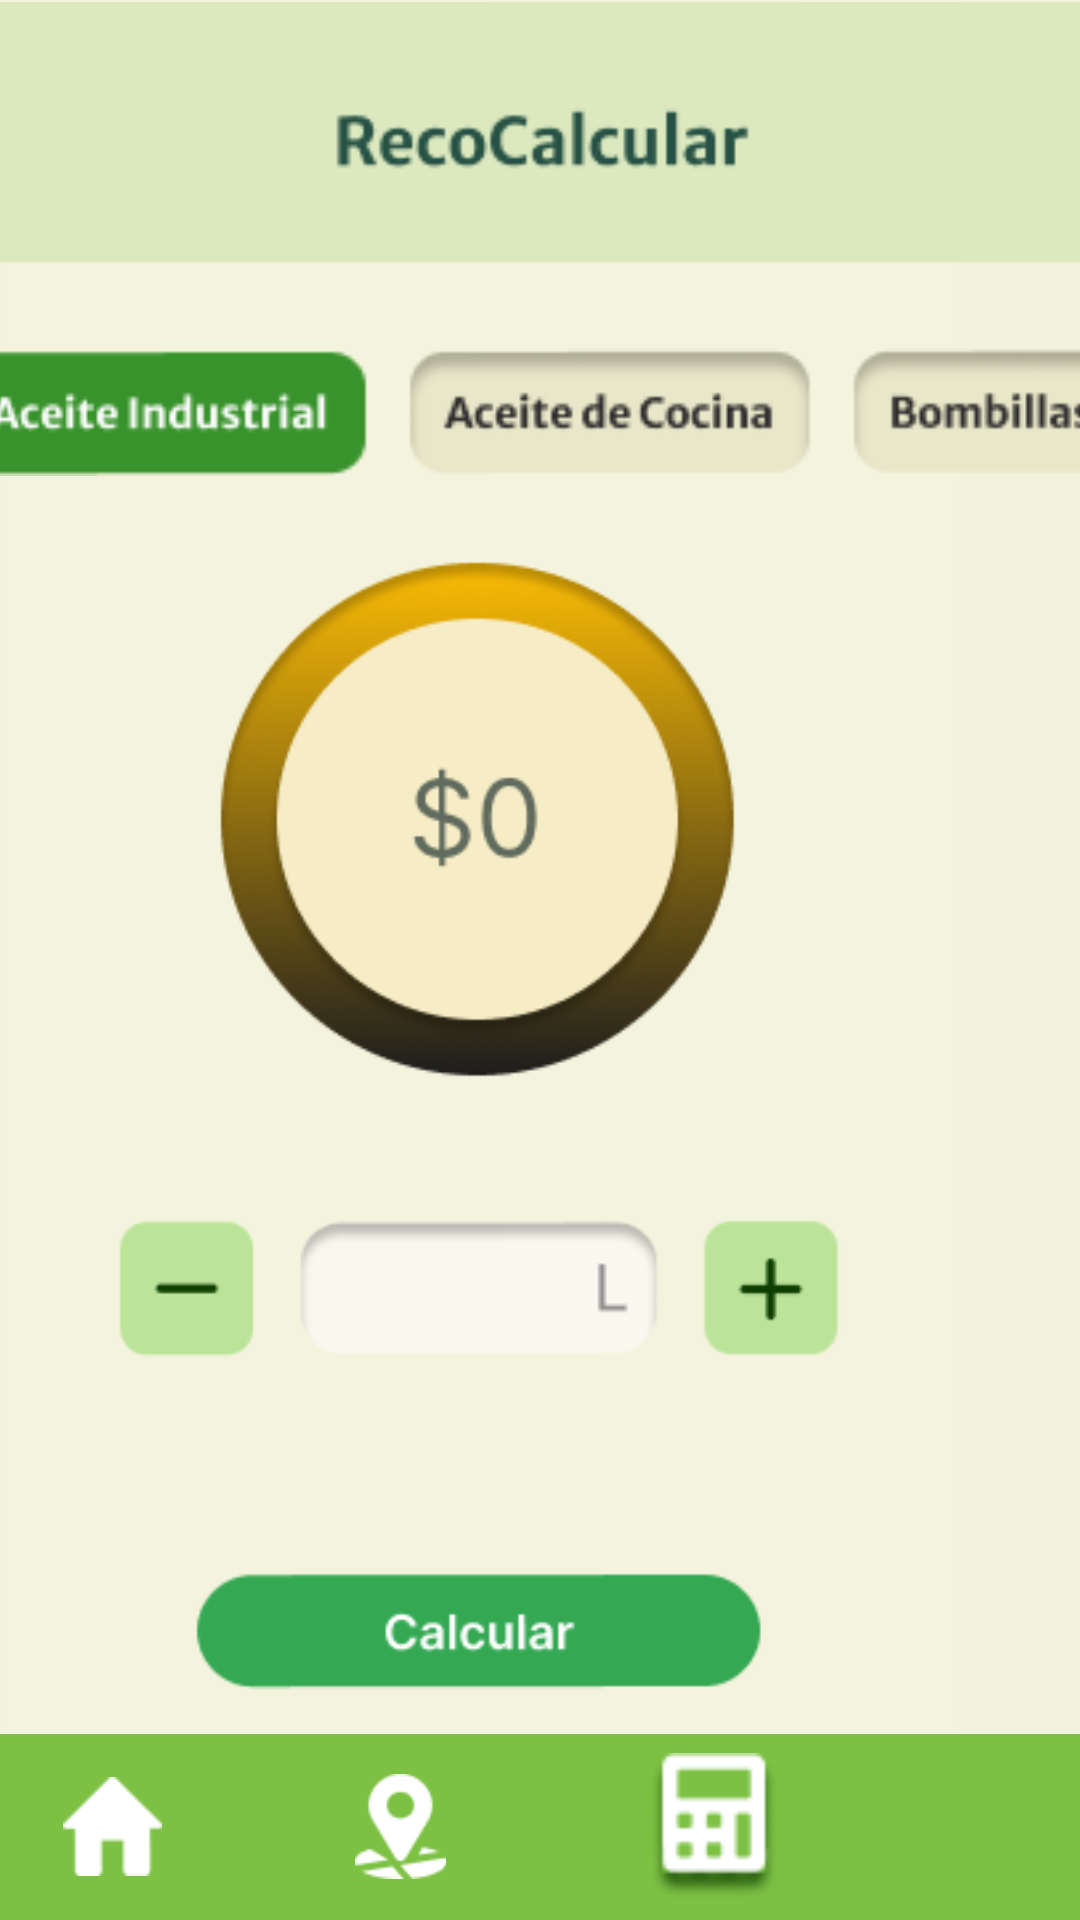

Where to tap for icons on this 1080 × 1920 app screen, as (x=x, y=y):
calculator: (x=714, y=1821)
